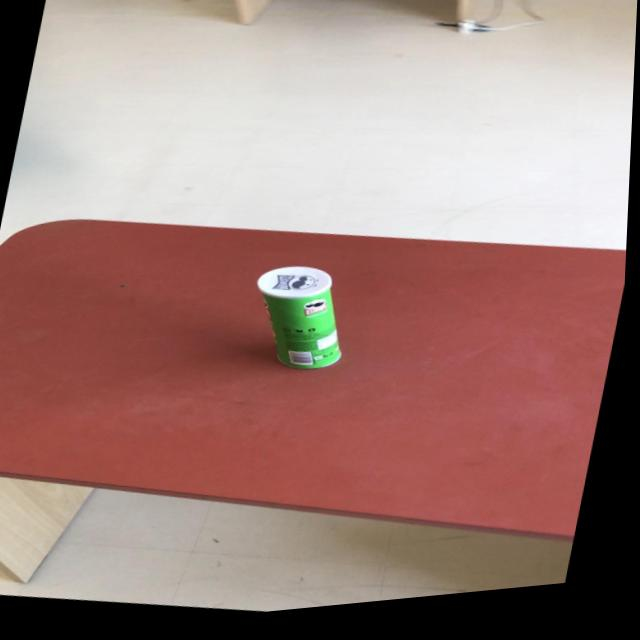a pringles: (244, 260, 365, 387)
